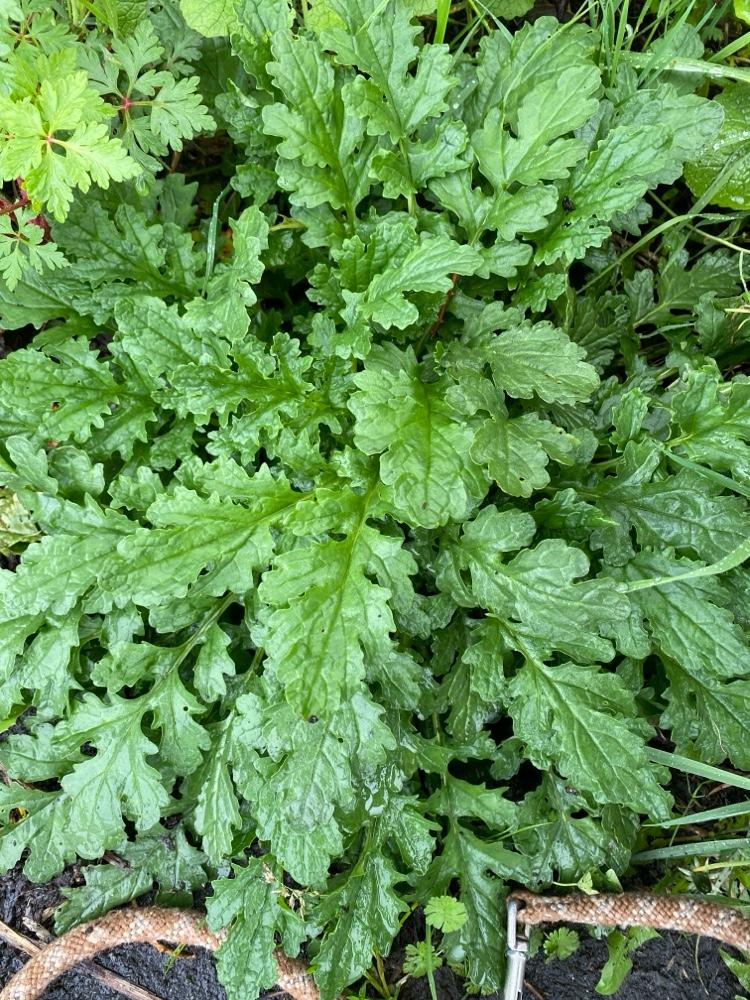Jacobaea vulgaris: (14, 26, 737, 930)
